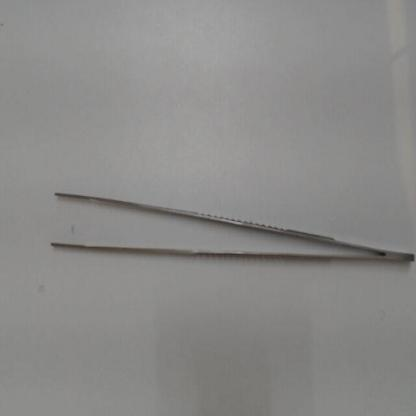DeBakey Dissector: (26, 178, 415, 279)
